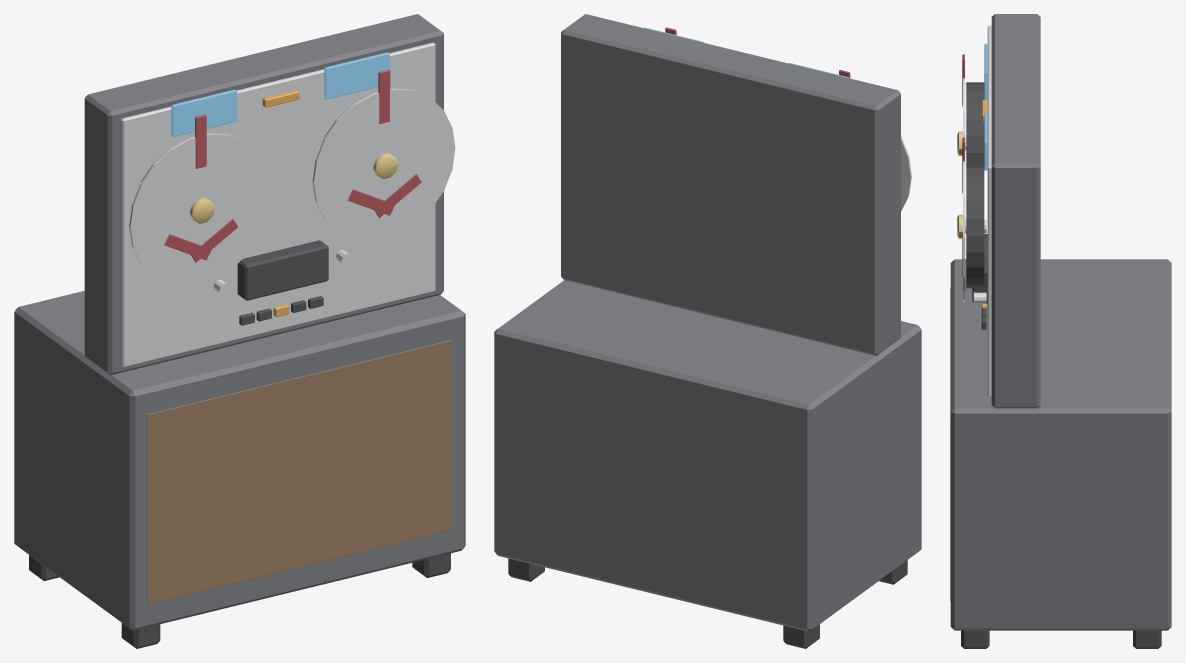
The model's file is music-recording-studio-and-instruments-tape-machine-680673b8.glb.
3 views of the same model, side by side, from view 1: azimuth 30°, elevation 25°; view 2: azimuth 150°, elevation 25°; view 3: azimuth 270°, elevation 25° (orthographic). The views are drawn at different scales.
Parts seen in each view (by area): view 1: tape-machine, supply-reel/metal, takeup-reel/metal, supply-reel/shell, takeup-reel/shell; view 2: tape-machine; view 3: tape-machine, takeup-reel/gear, supply-reel/gear, takeup-reel/metal.
Boxes of the visible parts, <box> form: tape-machine: <box>14,14,465,648</box>; supply-reel/metal: <box>129,133,271,285</box>; takeup-reel/metal: <box>312,88,455,240</box>; supply-reel/shell: <box>164,114,237,262</box>; takeup-reel/shell: <box>348,69,421,217</box>; tape-machine: <box>494,14,921,648</box>; tape-machine: <box>950,14,1171,648</box>; takeup-reel/gear: <box>966,165,984,288</box>; supply-reel/gear: <box>966,82,984,165</box>; takeup-reel/metal: <box>963,151,965,302</box>.
Size of the model in its own units: 0.88 by 1.32 by 0.5409.
